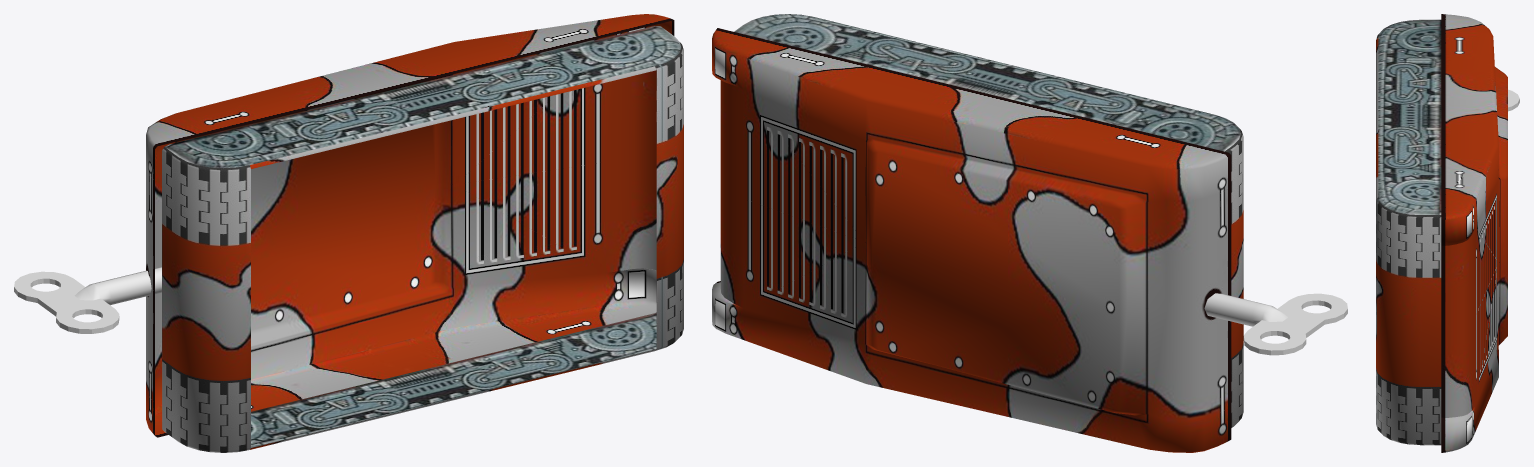
The model's file is panzer.fbx.
The picture shows the model from 3 angles, left to right: view 1: azimuth 30°, elevation 25°; view 2: azimuth 150°, elevation 25°; view 3: azimuth 270°, elevation 25°; orthographic projection. The views are drawn at different scales.
Parts seen in each view (by area): view 1: top_main, Circle; view 2: top_main, Circle; view 3: top_main, Circle.
Boxes of the visible parts, bbox=[...] form: top_main: bbox=[146, 14, 683, 452]; Circle: bbox=[14, 267, 161, 333]; top_main: bbox=[712, 14, 1243, 452]; Circle: bbox=[1204, 293, 1347, 355]; top_main: bbox=[1376, 14, 1507, 452]; Circle: bbox=[1508, 89, 1519, 111].
Size of the model in its own units: 235 by 105 by 58.1.
